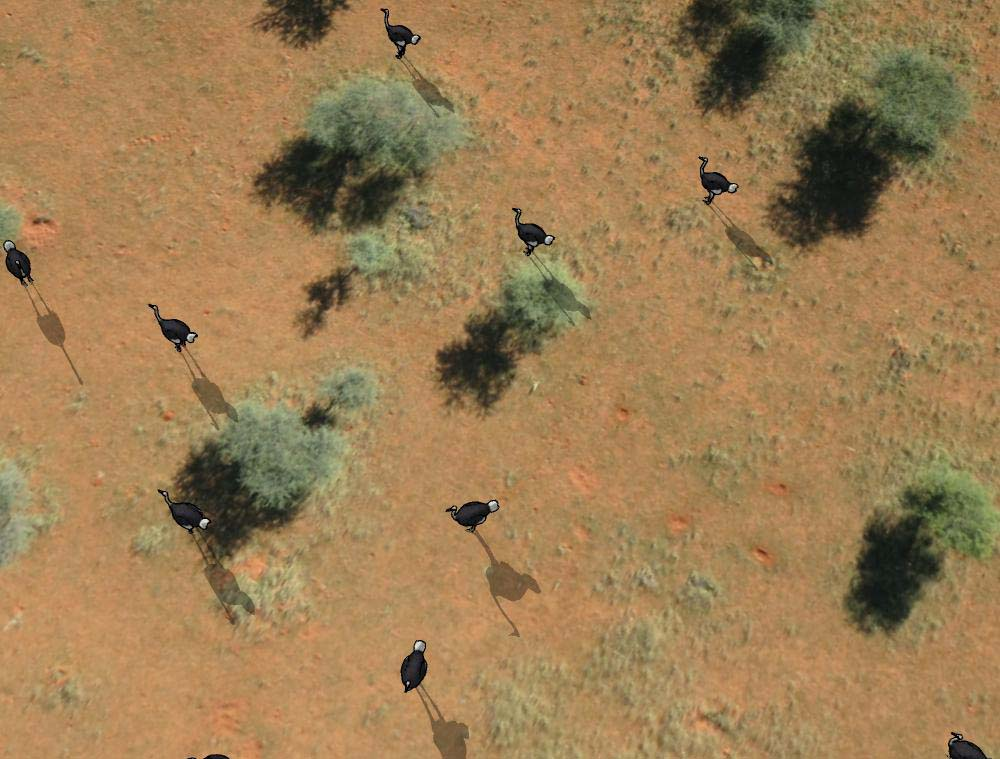ostrich: (147, 294, 201, 357), (152, 481, 217, 533), (511, 200, 557, 261), (379, 4, 426, 61), (690, 154, 740, 207), (392, 634, 434, 691), (444, 496, 501, 537), (1, 234, 39, 295), (944, 724, 994, 759)
